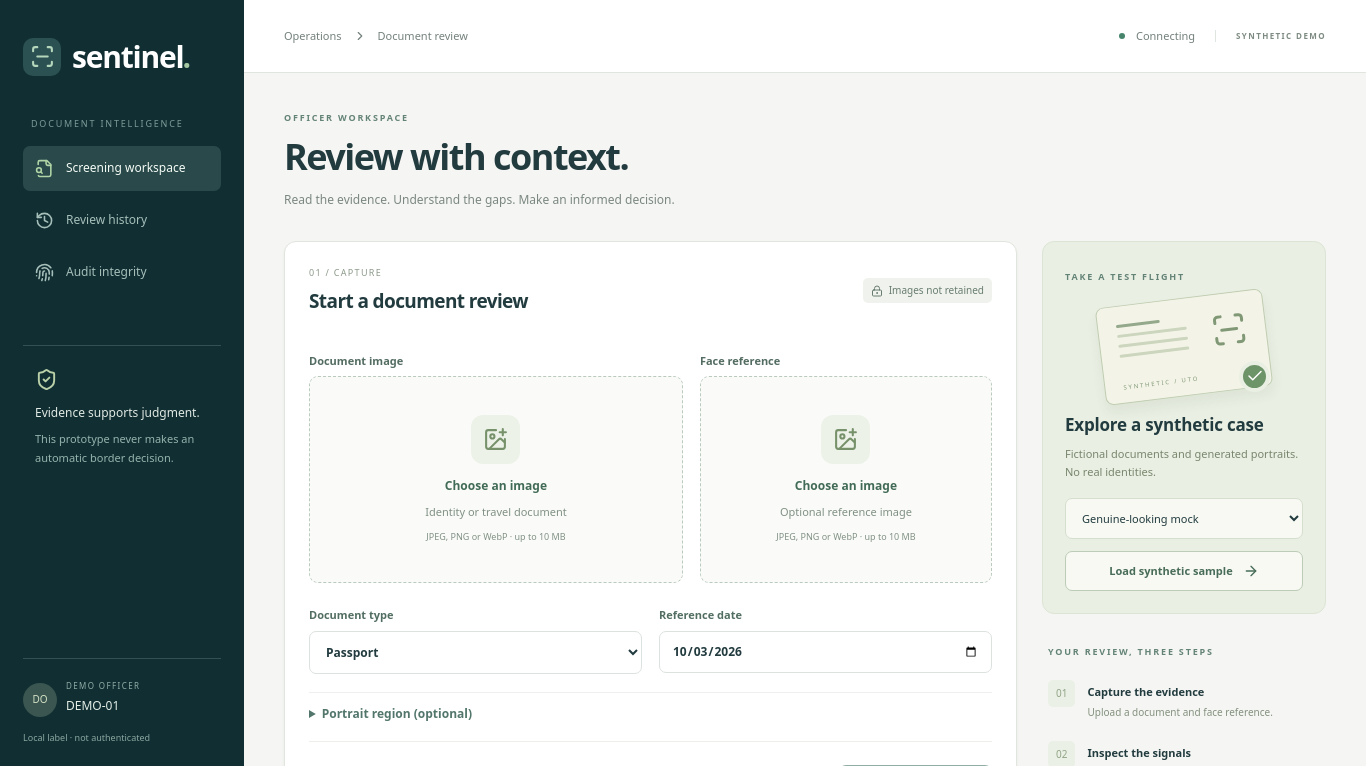
Test: shows a truthful empty history rather than fabricated records
The width and height of the screenshot is (1366, 766).
Click the button "Review history": point(122, 220) left=23, top=198, right=221, bottom=242
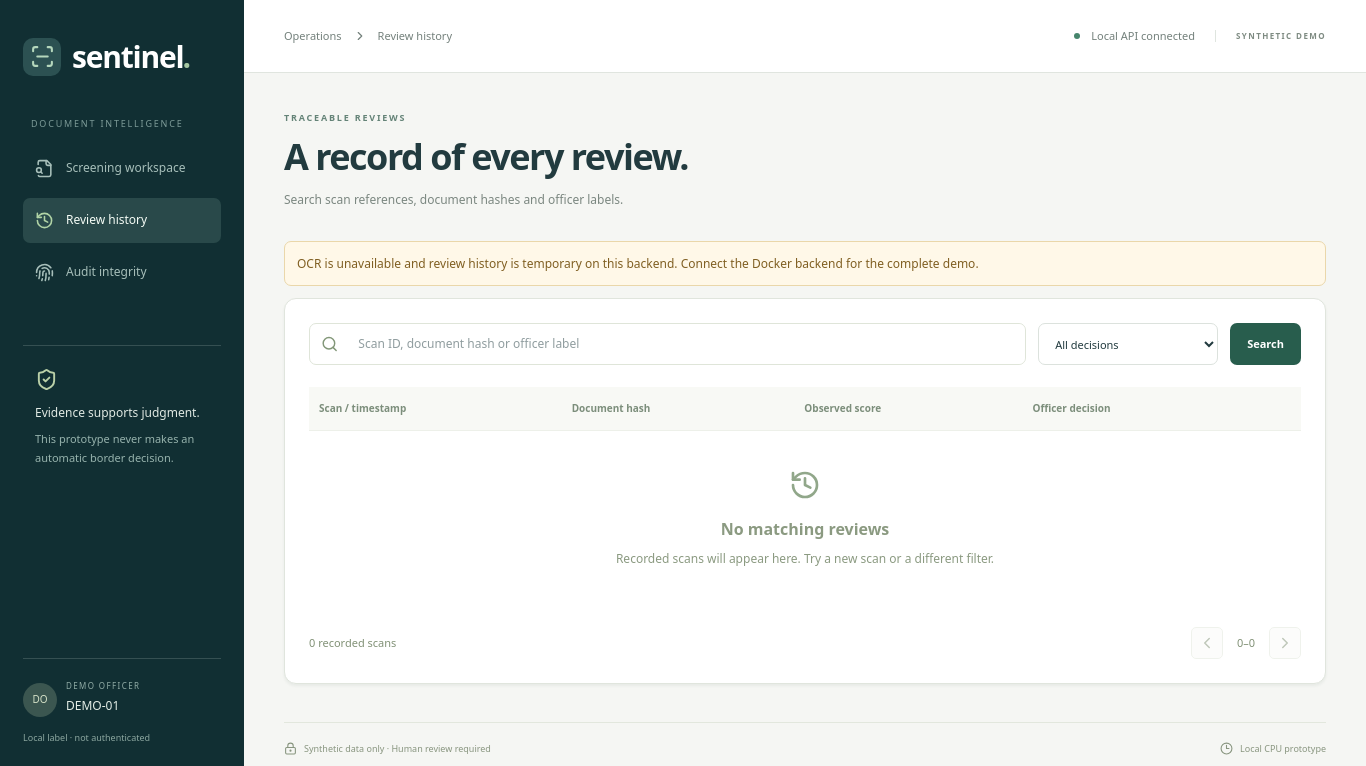
Expected: the heading "No matching reviews" is shown, left=721, top=518, right=889, bottom=540
